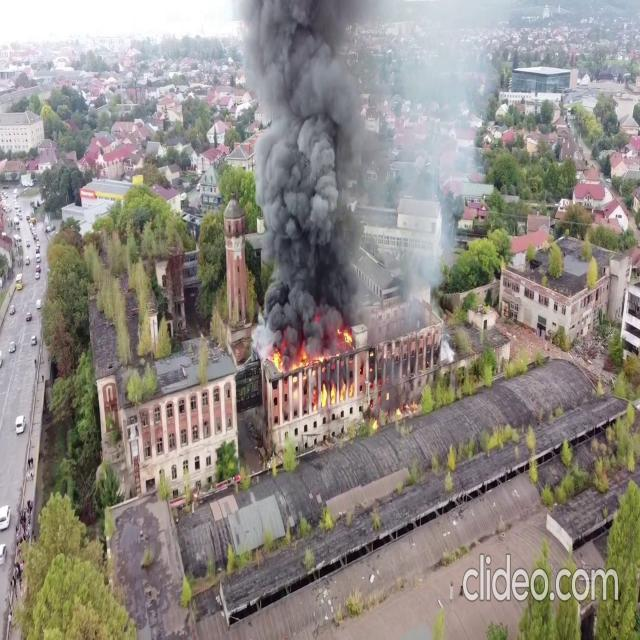Fire: (264, 322, 362, 384)
Smoke: (235, 0, 402, 352)
